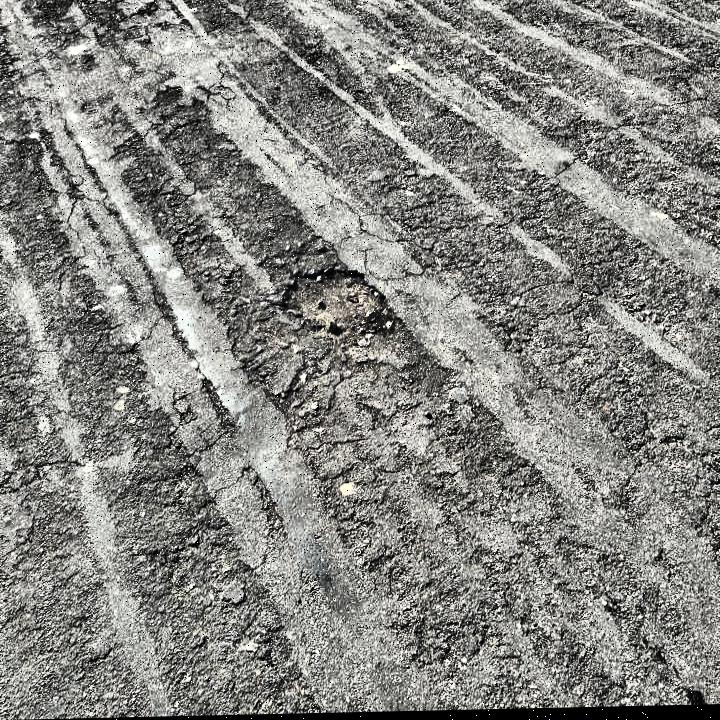pothole: (275, 264, 393, 338)
